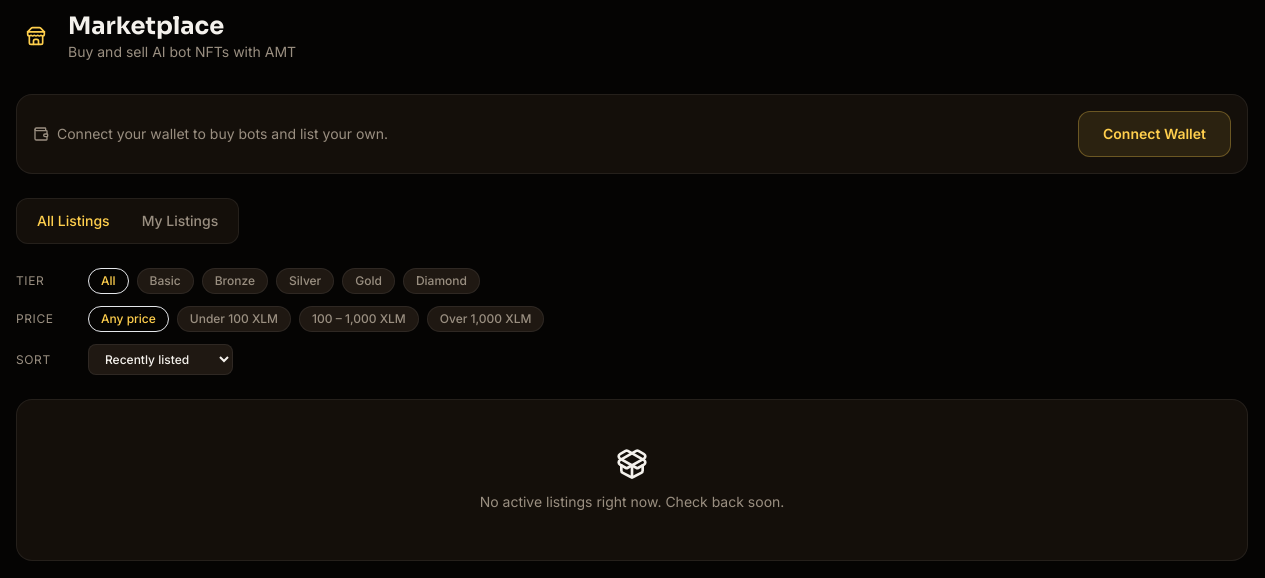
Test: Marketplace Page Integration (#499) › prompts to connect when My Listings is opened unconnected
Click the tab "My Listings": click(180, 221) [126,203,234,239]
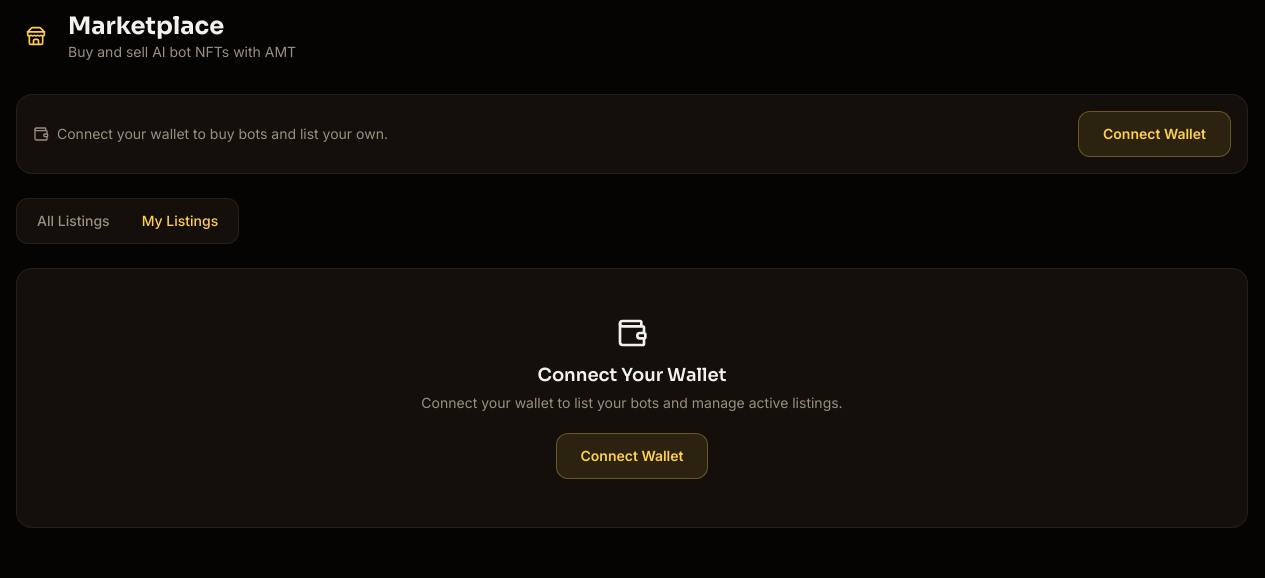
Now the element with test id "marketplace-mine-connect" is shown, box [16,268,1248,528]
Now the text "list your bots and manage active listings" is shown, box [421,394,843,411]
